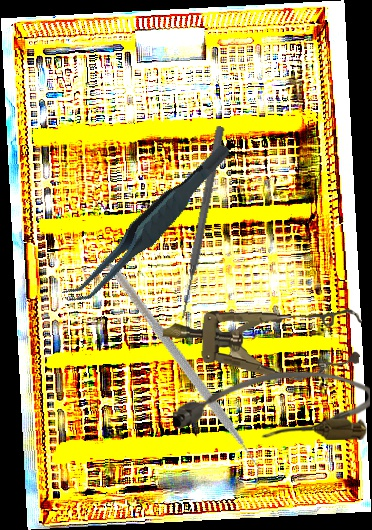Cannula: (173, 371, 370, 440)
Chopper: (51, 263, 314, 490)
Pusher: (176, 125, 227, 321)
Speculum: (159, 292, 364, 386)
Tissue Forceps: (40, 142, 257, 310)
